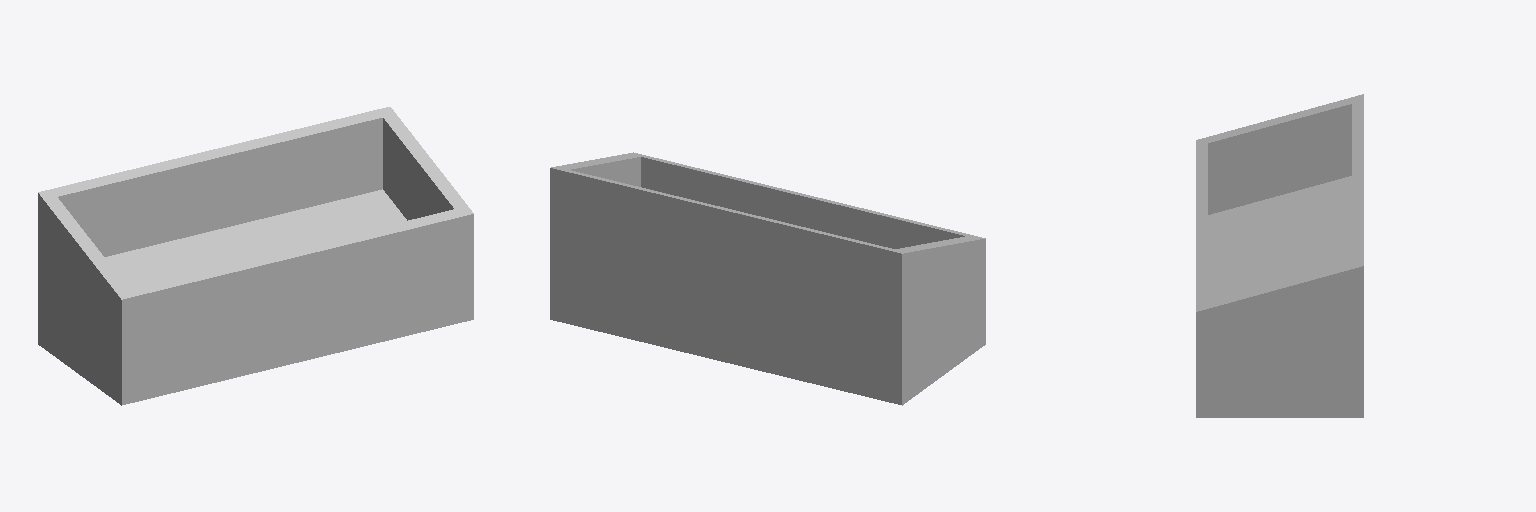
File: cajon.obj
3 views of the same model, side by side, from view 1: azimuth 30°, elevation 25°; view 2: azimuth 150°, elevation 25°; view 3: azimuth 270°, elevation 25° (orthographic).
Parts seen in each view (by area): view 1: Cube; view 2: Cube; view 3: Cube.
Part boxes in pixels (x1,y1,x2,y2): Cube: (38, 107, 473, 405); Cube: (550, 152, 985, 405); Cube: (1196, 94, 1363, 417).
Size of the model in its own units: 4.86 by 2 by 2.